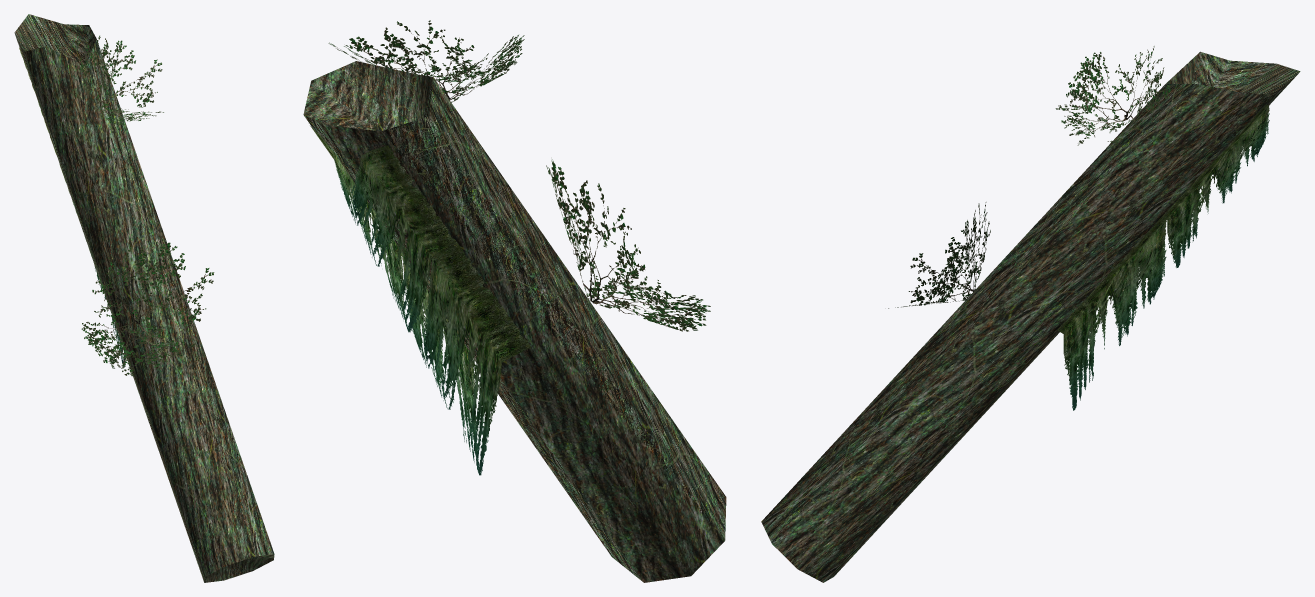
File: decd_dath_overgrownbranch_a1_l0.fbx
3 renders of one model, left to right at view 1: azimuth 30°, elevation 25°; view 2: azimuth 150°, elevation 25°; view 3: azimuth 270°, elevation 25°, orthographic. The views are drawn at different scales.
Parts seen in each view (by area): view 1: mesh_node; view 2: mesh_node; view 3: mesh_node.
Boxes of the visible parts, x1,y1,x2,y2 form: mesh_node: (14, 14, 274, 582); mesh_node: (303, 20, 726, 582); mesh_node: (761, 46, 1300, 582).
Size of the model in its own units: 5.11 by 12.52 by 11.37.
